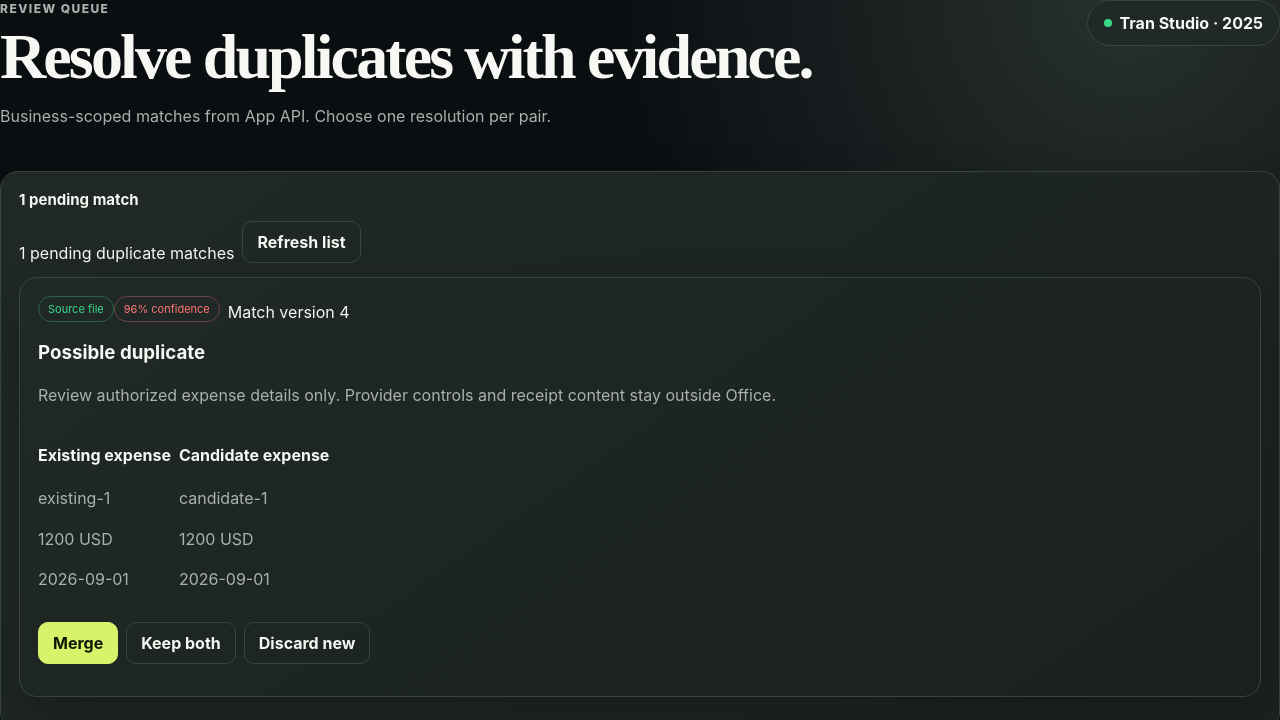
rendered Office duplicate review › removes resolved item, announces success, and shows live resolution message
Click the button "Merge".
click(78, 643)  # box [38,622,118,664]
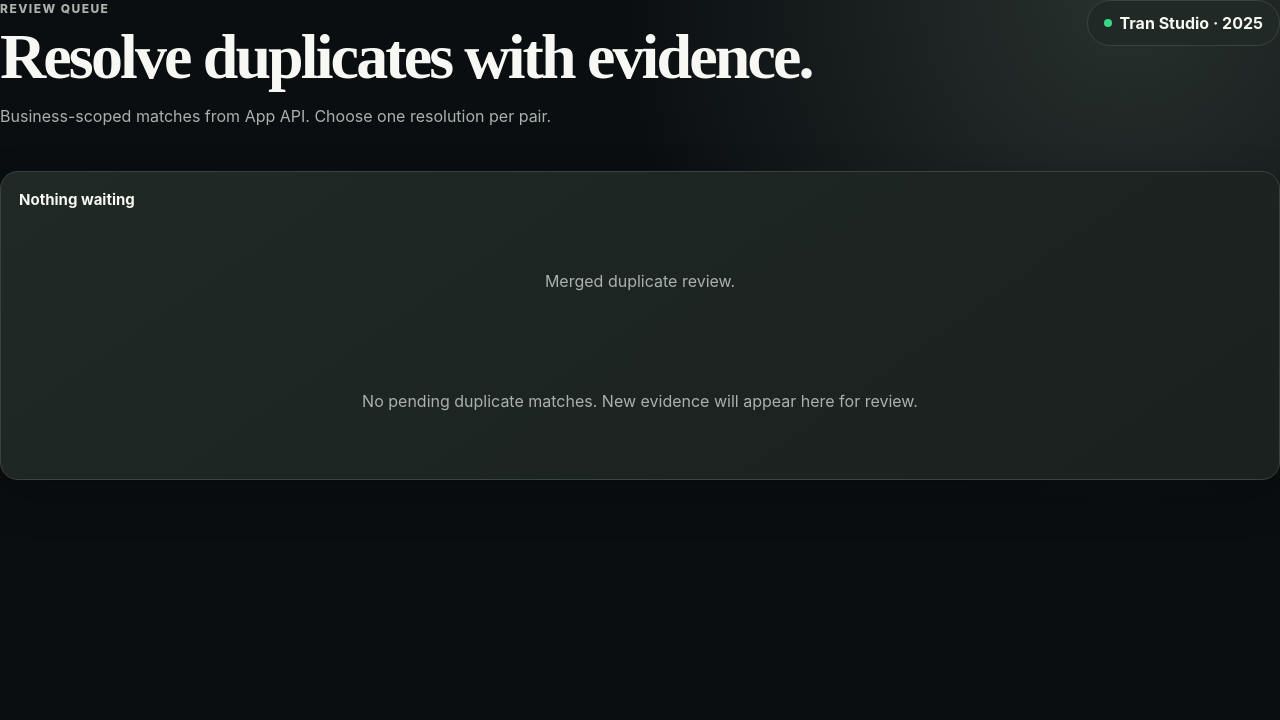
Now the text "Merged duplicate review." is shown, box [545,271,735,291]
Now the heading "Possible duplicate" is gone
